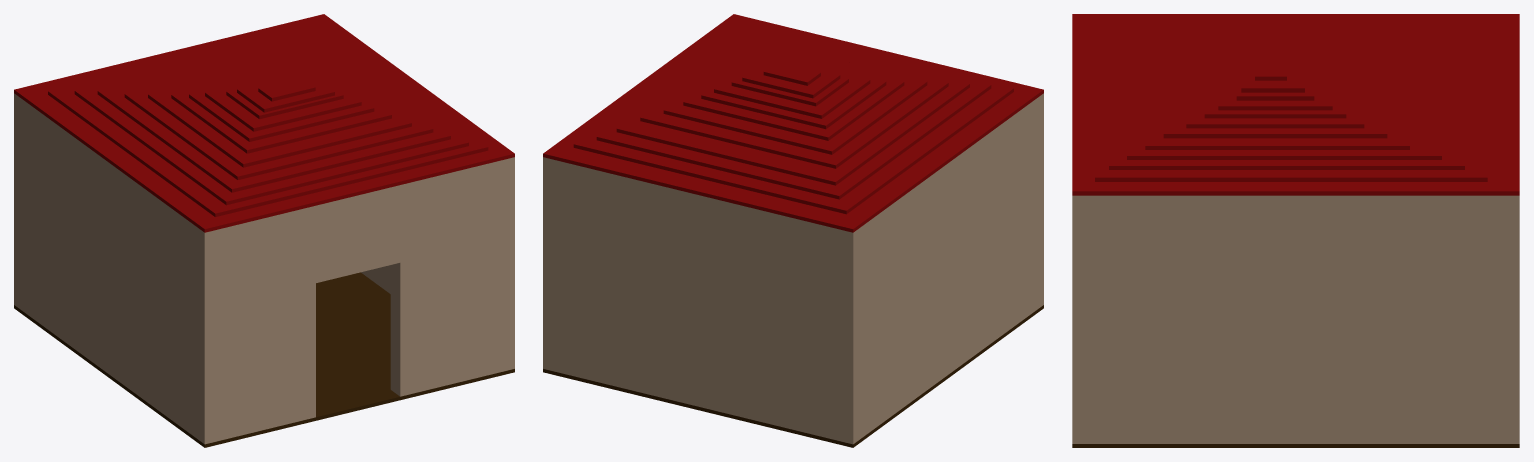
File: mill.obj
The picture shows the model from 3 angles, left to right: view 1: azimuth 30°, elevation 25°; view 2: azimuth 150°, elevation 25°; view 3: azimuth 270°, elevation 25°; orthographic projection. The views are drawn at different scales.
Size of the model in its own units: 92 by 73 by 98.
Materials: 1 (1 with a texture image).
